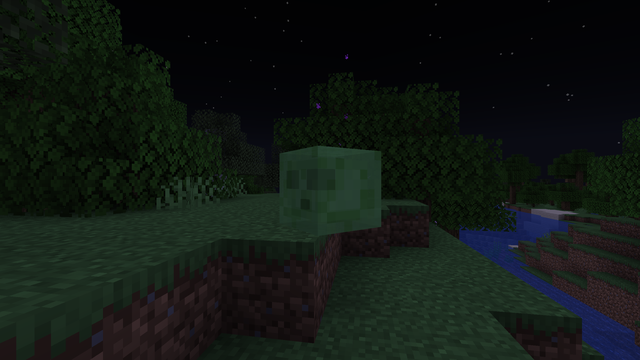slimes: (279, 143, 366, 234)
